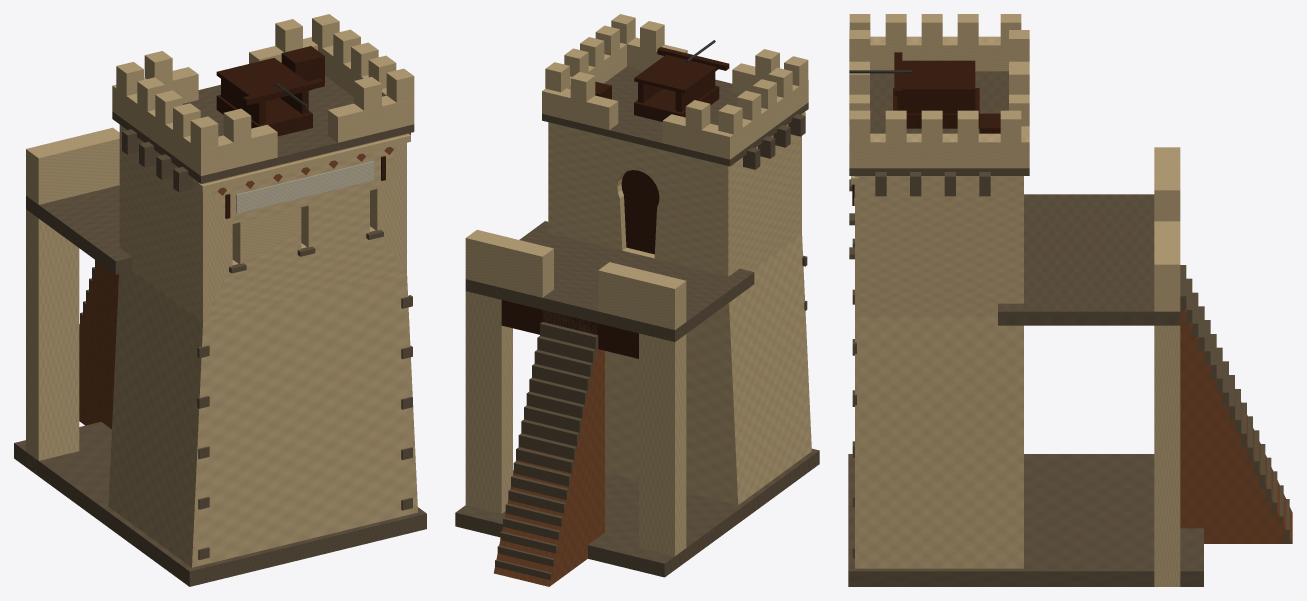
Rendered from Berber_WallTower_Age4_springald.fbx.
3 views of the same model, side by side, from view 1: azimuth 30°, elevation 25°; view 2: azimuth 150°, elevation 25°; view 3: azimuth 270°, elevation 25° (orthographic). The views are drawn at different scales.
Visible parts, largest first — view 1: battered_front_tower, front_upper_chamber, rear_support_west, ground_stone_plinth, roof_platform, rear_walk_parapet, stair_ramp_support, through_walk_deck, roof_side_parapet, owner_front_banner, roof_front_split_parapet.001, springald_top_rail (+23 smaller); view 2: battered_front_tower, front_upper_chamber, rear_support_west, through_walk_deck, rear_support_east, ground_stone_plinth, stair_ramp_support, roof_platform, rear_walk_parapet_east, rear_walk_parapet, rear_bearer, rear_horseshoe_chamber_door (+42 smaller); view 3: battered_front_tower, ground_stone_plinth, front_upper_chamber, through_walk_deck, stair_ramp_support, rear_support_east, roof_side_parapet.001, roof_platform, roof_side_parapet, rear_walk_parapet_east, springald_top_rail, rear_walk_parapet (+14 smaller).
Boxes of the visible parts, bbox=[...] form: battered_front_tower: bbox=[108, 271, 417, 567]; front_upper_chamber: bbox=[119, 125, 406, 322]; rear_support_west: bbox=[26, 209, 79, 474]; ground_stone_plinth: bbox=[14, 422, 426, 586]; roof_platform: bbox=[112, 76, 414, 183]; rear_walk_parapet: bbox=[26, 127, 119, 204]; stair_ramp_support: bbox=[79, 262, 118, 429]; through_walk_deck: bbox=[26, 185, 132, 274]; roof_side_parapet: bbox=[112, 85, 218, 176]; owner_front_banner: bbox=[236, 161, 374, 213]; roof_front_split_parapet.001: bbox=[328, 95, 396, 142]; springald_top_rail: bbox=[216, 58, 312, 103]; battered_front_tower: bbox=[605, 235, 811, 504]; front_upper_chamber: bbox=[548, 122, 801, 276]; rear_support_west: bbox=[639, 333, 686, 555]; through_walk_deck: bbox=[465, 221, 754, 341]; rear_support_east: bbox=[465, 291, 512, 513]; ground_stone_plinth: bbox=[455, 448, 819, 577]; stair_ramp_support: bbox=[494, 340, 604, 586]; roof_platform: bbox=[542, 66, 808, 166]; rear_walk_parapet_east: bbox=[465, 230, 553, 297]; rear_walk_parapet: bbox=[598, 262, 686, 329]; rear_bearer: bbox=[501, 300, 638, 358]; rear_horseshoe_chamber_door: bbox=[621, 170, 659, 254]; battered_front_tower: bbox=[855, 317, 1023, 568]; ground_stone_plinth: bbox=[848, 454, 1203, 586]; front_upper_chamber: bbox=[855, 176, 1023, 317]; through_walk_deck: bbox=[998, 194, 1180, 325]; stair_ramp_support: bbox=[1180, 310, 1292, 543]; rear_support_east: bbox=[1154, 325, 1180, 586]; roof_side_parapet.001: bbox=[849, 133, 1029, 168]; roof_platform: bbox=[849, 71, 1029, 175]; roof_side_parapet: bbox=[870, 36, 1008, 71]; rear_walk_parapet_east: bbox=[1154, 221, 1180, 311]; springald_top_rail: bbox=[902, 60, 975, 92]; rear_walk_parapet: bbox=[1154, 147, 1180, 221].
Bounding box in the file's own units: 640 × 1174 × 1024.
Materials: 7 (7 with a texture image).
